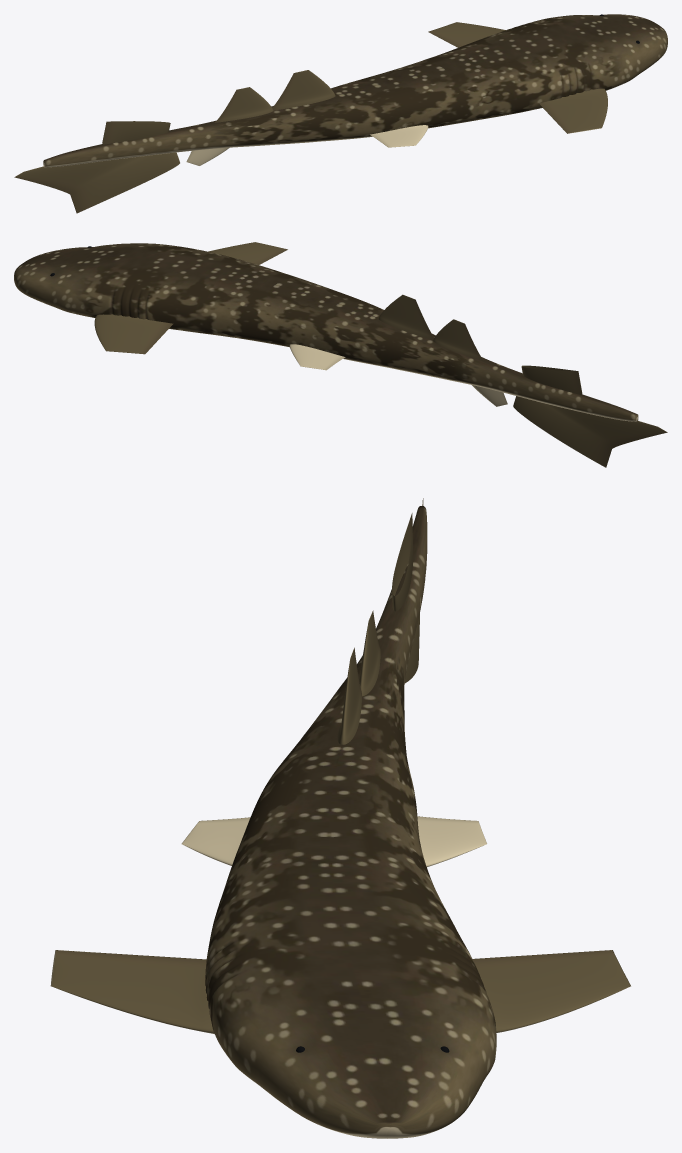
The model's file is spotted_wobbegong.glb.
3 renders of one model, top to bottom at view 1: azimuth 30°, elevation 25°; view 2: azimuth 150°, elevation 25°; view 3: azimuth 270°, elevation 25°, orthographic. The views are drawn at different scales.
Parts seen in each view (by area): view 1: SpottedWobbegong_Body, SpottedWobbegong_Fins; view 2: SpottedWobbegong_Body, SpottedWobbegong_Fins; view 3: SpottedWobbegong_Body, SpottedWobbegong_Fins.
Part boxes in pixels (x1,y1,x2,y2): SpottedWobbegong_Body: (43,14,667,167); SpottedWobbegong_Fins: (14,22,607,213); SpottedWobbegong_Body: (14,243,638,421); SpottedWobbegong_Fins: (94,242,667,467); SpottedWobbegong_Body: (205,506,496,1138); SpottedWobbegong_Fins: (50,498,630,1033).
Size of the model in its own units: 1.8 by 0.2789 by 0.7065.
Materials: 3 (1 with a texture image).
